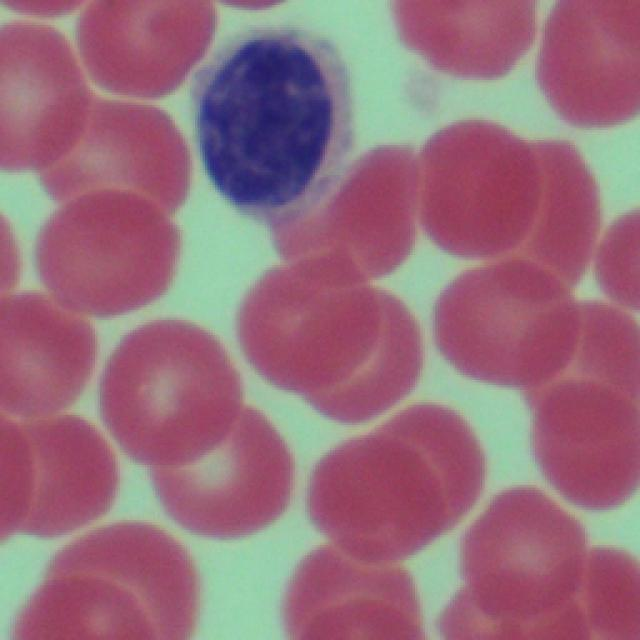RBC: (407, 112, 596, 298), (311, 393, 478, 578), (233, 260, 412, 431), (443, 485, 628, 638), (28, 80, 208, 226), (26, 180, 206, 322), (19, 519, 200, 640), (96, 312, 234, 467), (64, 0, 210, 103), (525, 2, 638, 133), (2, 291, 98, 429), (280, 542, 417, 638), (383, 0, 539, 81)
WBC: (196, 14, 344, 250)
